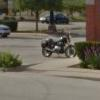Motorcycle: (32, 32, 81, 64)
